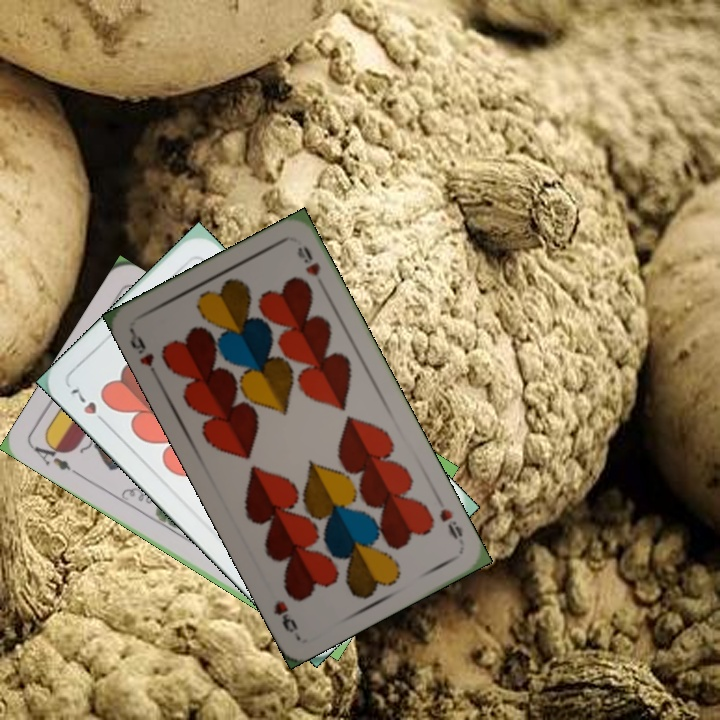EA: (28, 435, 74, 473)
H7: (64, 382, 111, 429)
H9: (125, 327, 161, 382), (435, 504, 466, 542)
